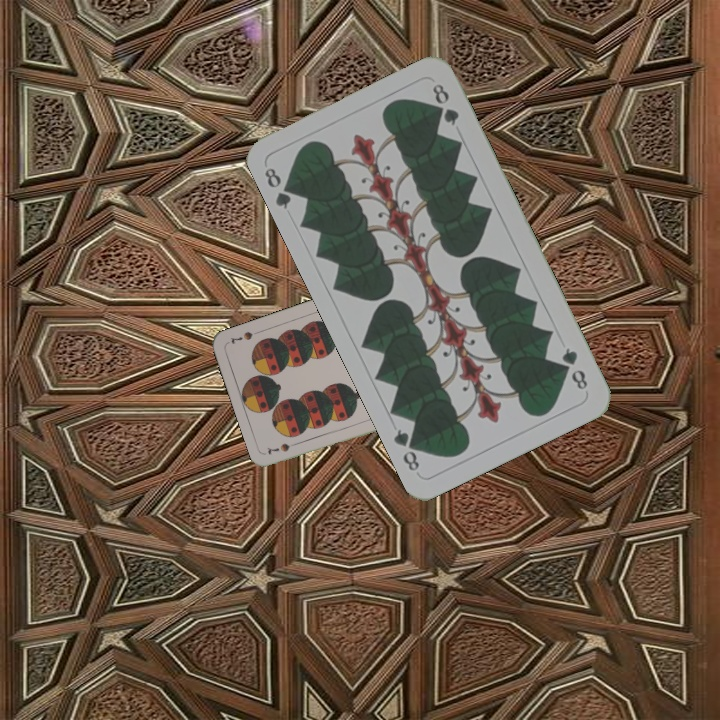G8: (260, 163, 299, 212), (557, 343, 591, 393)
S7: (264, 437, 304, 457)
